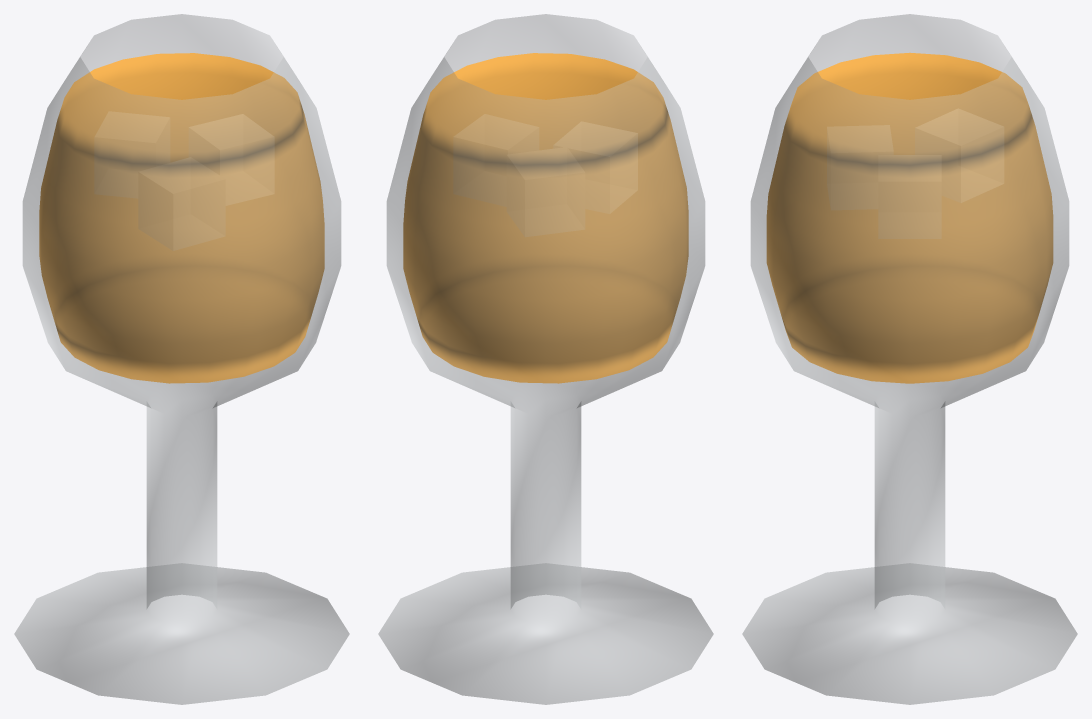
File: item-beach-drink.glb
3 renders of one model, left to right at view 1: azimuth 30°, elevation 25°; view 2: azimuth 150°, elevation 25°; view 3: azimuth 270°, elevation 25°, orthographic.
Bounding box in the file's own units: 0.0817 × 0.155 × 0.0817.
